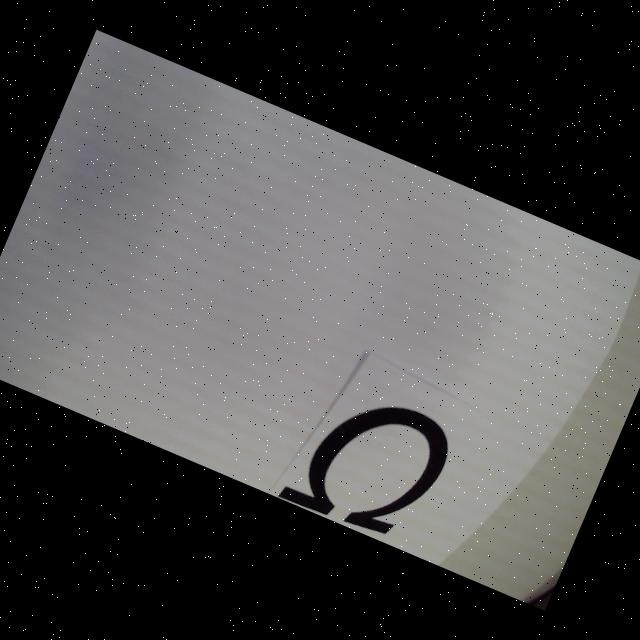OMEGA: (276, 374, 459, 552)
